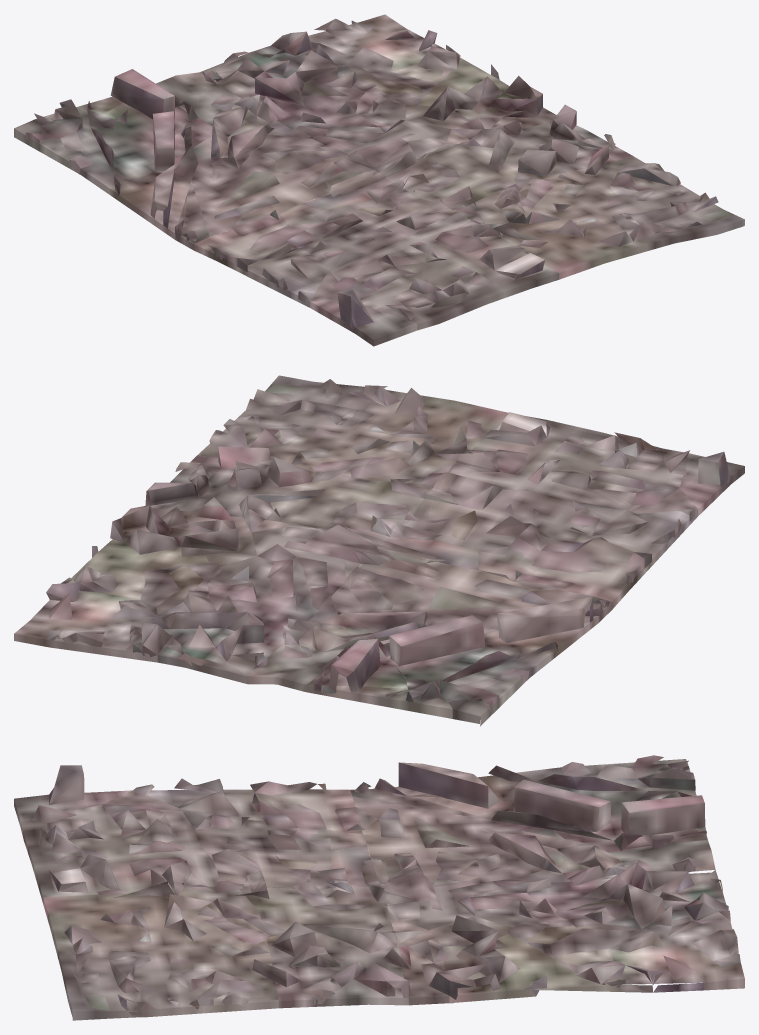
3 renders of one model, top to bottom at view 1: azimuth 30°, elevation 25°; view 2: azimuth 150°, elevation 25°; view 3: azimuth 270°, elevation 25°, orthographic. The views are drawn at different scales.
Visible parts, largest first — view 1: Mesh_0; view 2: Mesh_0; view 3: Mesh_0.
Part boxes in pixels (bbox=[...]): Mesh_0: bbox=[14, 14, 744, 346]; Mesh_0: bbox=[14, 375, 744, 726]; Mesh_0: bbox=[14, 755, 744, 1020].
Bounding box in the file's own units: 532 × 46.99 × 659.
1 material, 1 textured.
